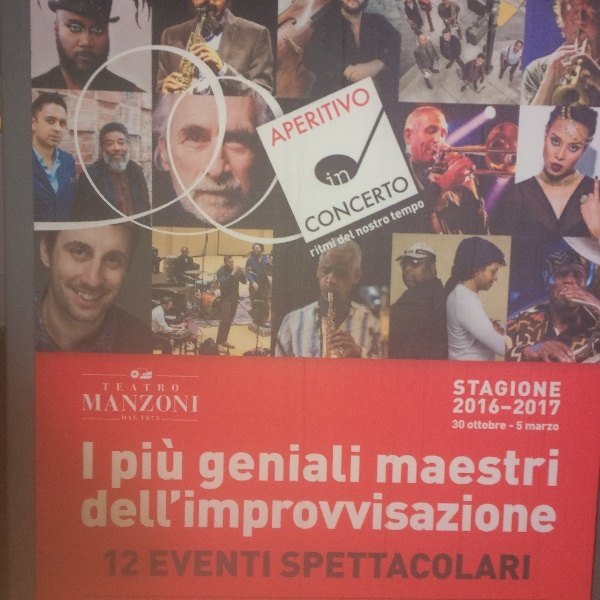text: (273, 85, 288, 148), (289, 85, 304, 148), (305, 85, 320, 148), (321, 85, 336, 148), (337, 85, 352, 148), (353, 85, 368, 148), (305, 174, 320, 236), (321, 174, 336, 236), (337, 174, 352, 236), (353, 174, 368, 236), (369, 174, 384, 236), (385, 174, 400, 236), (113, 433, 128, 489), (129, 433, 144, 489), (145, 433, 160, 489), (161, 433, 176, 489), (193, 489, 208, 543), (209, 489, 224, 543), (225, 489, 240, 543), (241, 489, 256, 543), (257, 489, 272, 543), (273, 489, 288, 543), (289, 489, 304, 543), (305, 489, 320, 543), (321, 489, 336, 543), (337, 489, 352, 543), (353, 489, 368, 543), (369, 489, 384, 543), (385, 489, 400, 543), (401, 489, 416, 543), (417, 489, 432, 543), (433, 489, 448, 543), (449, 489, 464, 543), (465, 489, 480, 543), (481, 489, 496, 543), (497, 489, 512, 543), (513, 489, 528, 543), (529, 489, 544, 543), (209, 441, 224, 492), (225, 441, 240, 492), (241, 441, 256, 492), (257, 441, 272, 492), (273, 441, 288, 492), (289, 441, 304, 492), (305, 441, 320, 492), (321, 441, 336, 492), (337, 441, 352, 492), (545, 489, 558, 543), (401, 174, 412, 236), (81, 489, 96, 532), (97, 489, 112, 532), (113, 489, 128, 532), (129, 489, 144, 532), (145, 489, 160, 532), (161, 489, 176, 532), (385, 449, 400, 489), (401, 449, 416, 489), (417, 449, 432, 489), (433, 449, 448, 489), (449, 449, 464, 489), (465, 449, 480, 489), (481, 449, 496, 489), (497, 449, 512, 489), (513, 449, 528, 489), (529, 449, 544, 489), (545, 449, 560, 489), (83, 442, 96, 480), (353, 441, 362, 492), (289, 552, 304, 582), (305, 552, 320, 582), (321, 552, 336, 582), (337, 552, 352, 582), (353, 552, 368, 582), (369, 552, 384, 582), (385, 552, 400, 582), (401, 552, 416, 582), (417, 552, 432, 582), (433, 552, 448, 582), (449, 552, 464, 582), (465, 552, 480, 582), (481, 552, 496, 582), (497, 552, 512, 582), (513, 552, 528, 582), (161, 550, 176, 578), (177, 550, 192, 578), (193, 550, 208, 578), (209, 550, 224, 578), (225, 550, 240, 578), (241, 550, 256, 578), (200, 441, 208, 492), (113, 549, 128, 576), (257, 550, 271, 578), (185, 489, 192, 543), (337, 164, 352, 189), (369, 213, 384, 238), (401, 199, 416, 223), (177, 433, 183, 489), (355, 213, 368, 238), (321, 237, 336, 258), (324, 164, 336, 189), (465, 380, 480, 399), (481, 380, 496, 399), (497, 380, 512, 399), (513, 380, 528, 399), (529, 380, 544, 399), (545, 380, 560, 399), (97, 395, 112, 414), (113, 395, 128, 414), (129, 395, 144, 414), (145, 395, 160, 414), (161, 395, 176, 414), (177, 395, 192, 414), (377, 449, 384, 489), (150, 550, 160, 578), (129, 549, 139, 576), (82, 395, 96, 414), (389, 199, 400, 223), (337, 229, 352, 246), (465, 399, 480, 416), (481, 399, 496, 416), (529, 399, 544, 416), (545, 399, 560, 416), (514, 399, 528, 416), (309, 237, 320, 258), (417, 199, 426, 223), (104, 549, 112, 576), (177, 489, 182, 532), (281, 552, 288, 582), (454, 380, 464, 399), (369, 85, 372, 148), (454, 399, 464, 416), (385, 213, 391, 238), (481, 420, 496, 430), (113, 383, 128, 393), (129, 383, 144, 393), (145, 383, 160, 393), (161, 383, 176, 393), (193, 395, 200, 414), (467, 420, 480, 430), (452, 419, 464, 429), (529, 424, 544, 431), (497, 420, 507, 430), (102, 383, 112, 393), (517, 421, 528, 430), (545, 424, 559, 431), (529, 552, 532, 582), (145, 416, 160, 421), (353, 229, 356, 246), (497, 399, 500, 416), (129, 416, 138, 421), (501, 406, 512, 410), (122, 416, 128, 421), (337, 237, 338, 258), (177, 383, 179, 393), (561, 380, 562, 399), (561, 399, 562, 416), (526, 424, 528, 431), (142, 416, 144, 421), (509, 425, 512, 428), (513, 425, 514, 428)
